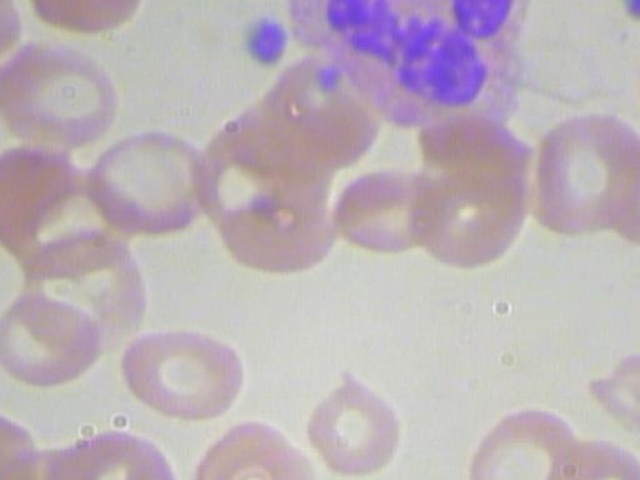Platelets: (241, 15, 291, 65), (617, 0, 640, 30)
RBC: (75, 121, 228, 244), (0, 33, 134, 156), (508, 113, 640, 236), (113, 327, 254, 423), (328, 164, 451, 259), (300, 364, 401, 479), (0, 296, 112, 392), (454, 399, 581, 480), (10, 0, 164, 41), (592, 128, 640, 251), (632, 9, 640, 130), (639, 312, 640, 455)
WBC: (283, 0, 543, 131)
